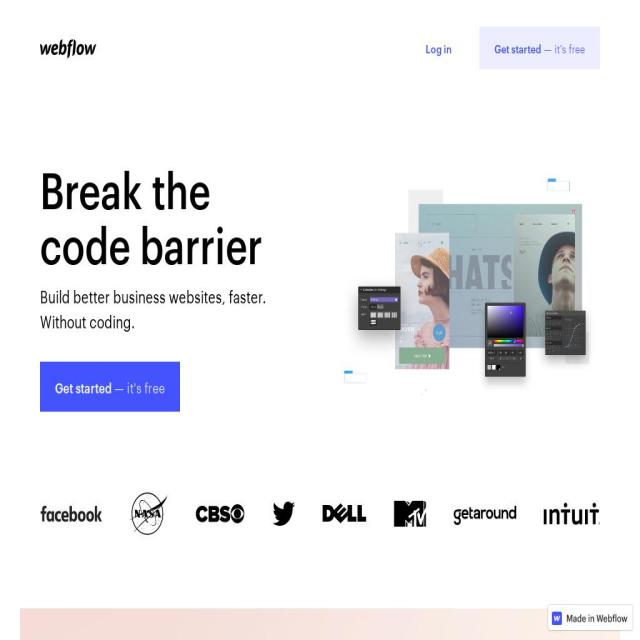button: (40, 362, 180, 412), (479, 27, 600, 69), (40, 27, 104, 69), (411, 27, 467, 68), (548, 605, 633, 631)
heading: (40, 160, 302, 270)
image: (324, 153, 608, 409), (130, 493, 168, 535), (454, 505, 516, 525), (544, 503, 600, 525), (40, 39, 96, 59), (40, 505, 102, 523), (195, 504, 245, 524), (322, 504, 367, 524), (394, 500, 426, 528), (273, 501, 295, 527), (567, 614, 627, 623), (552, 612, 562, 625)
text: (40, 284, 271, 334), (55, 376, 114, 396), (426, 28, 452, 68), (114, 376, 165, 396), (494, 40, 542, 56), (541, 40, 585, 57)
